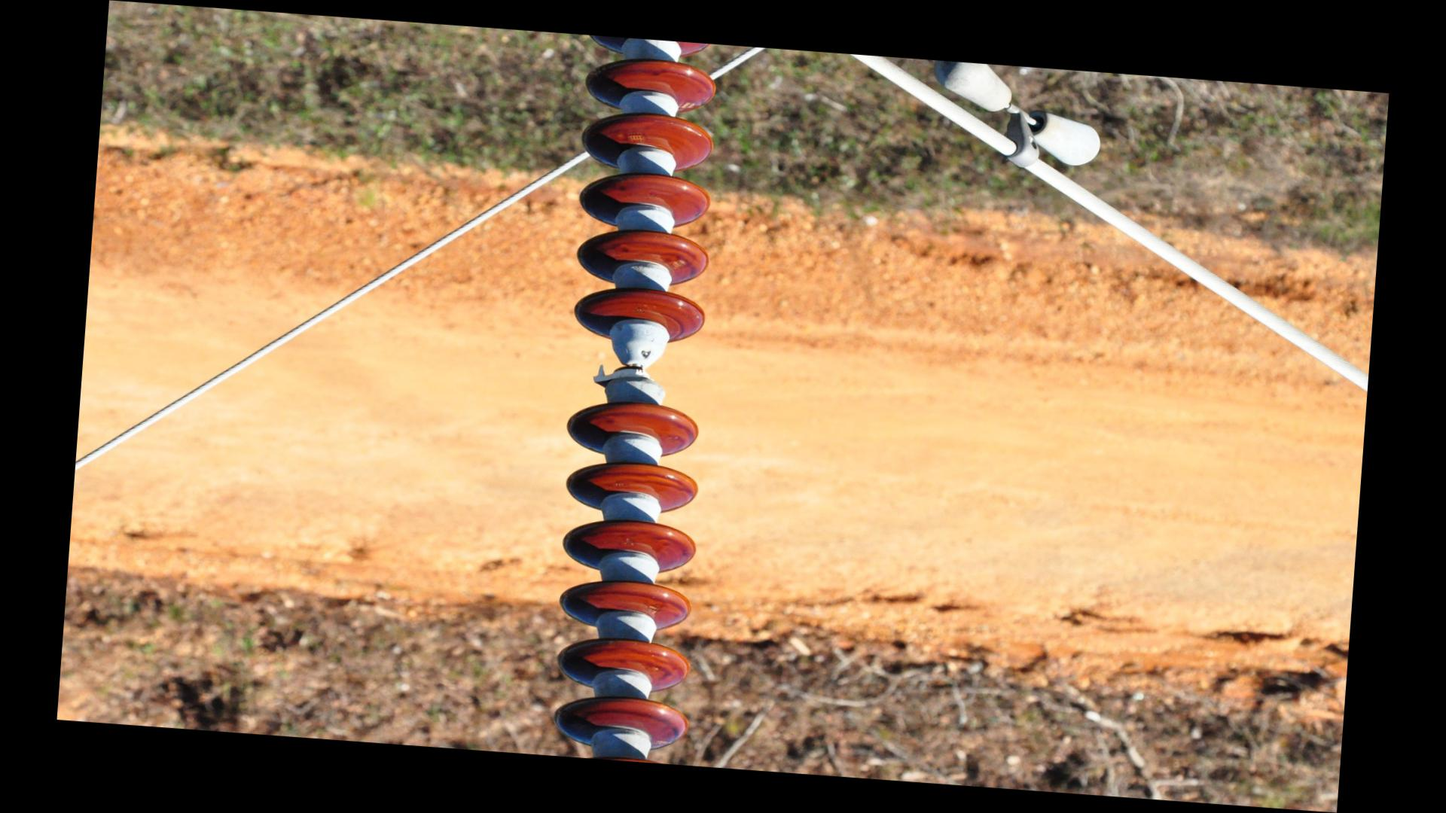damper: (919, 59, 1110, 181)
